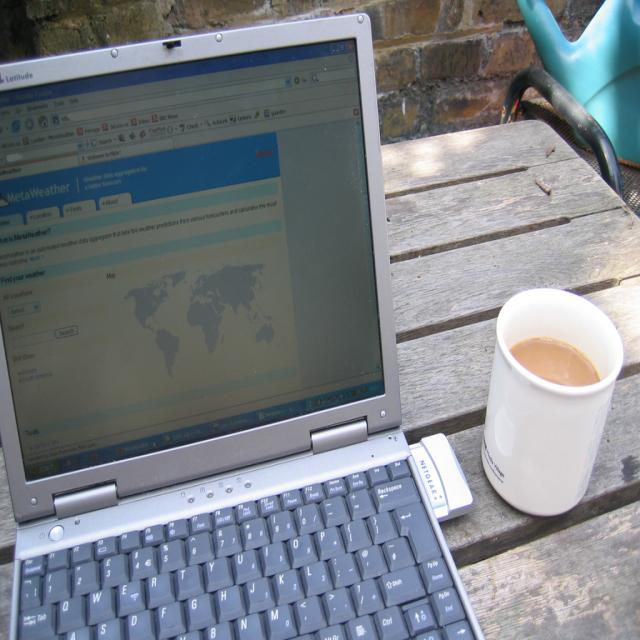Coffee: (504, 333, 598, 387)
Tea: (509, 337, 599, 388)
